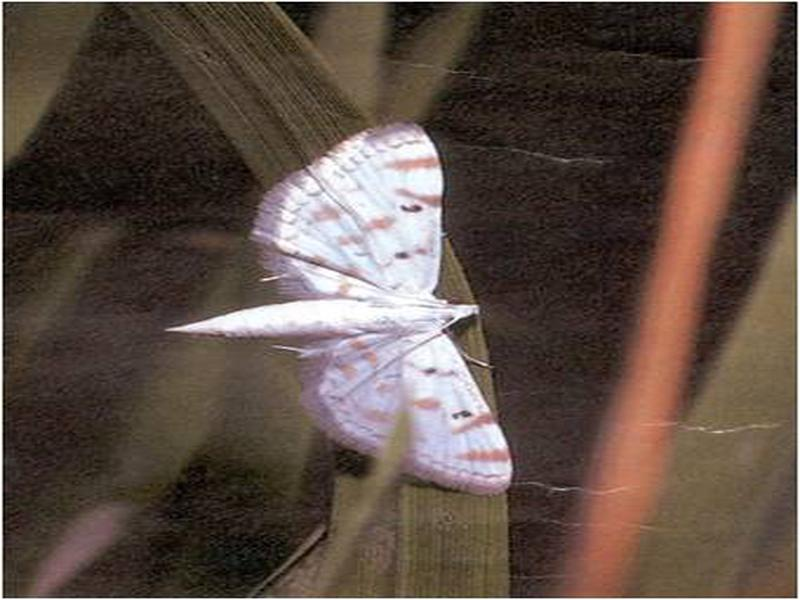Rice_case_worm: (196, 117, 543, 510)
